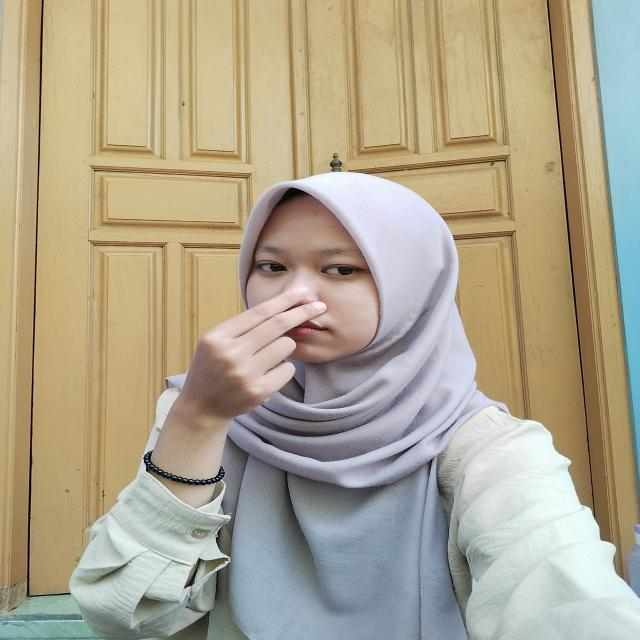bau: (179, 277, 338, 423)
